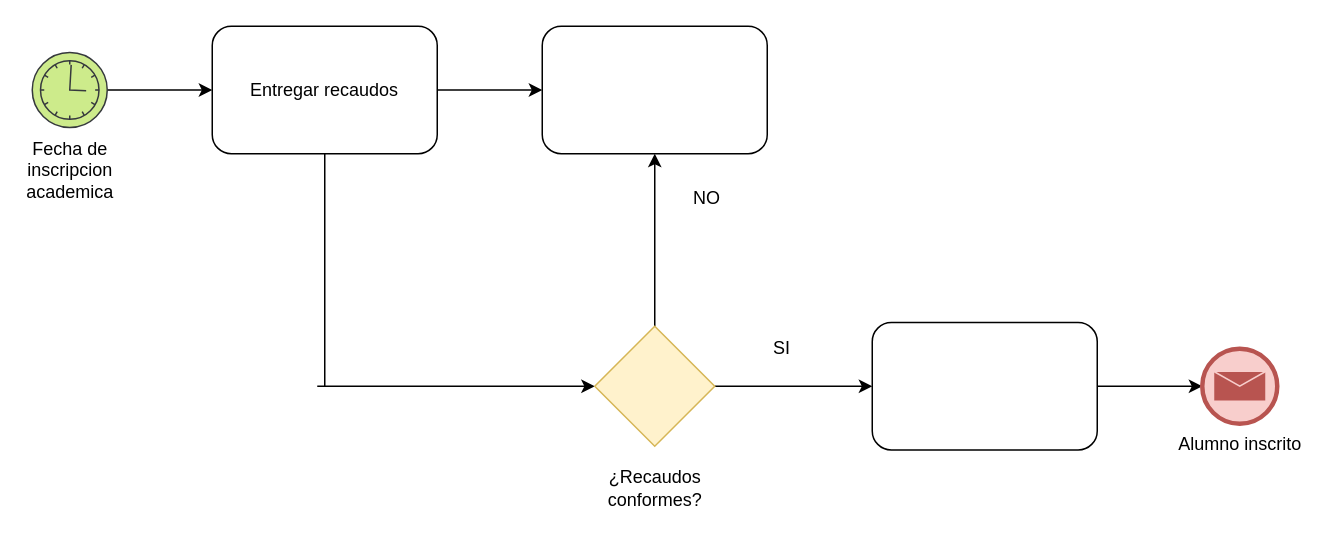
This 1326x551 diagram has some shape labels left out. Here are the shapes that lost their labels. From the top down, the box of each, then its label:
(541, 25, 767, 154): Conseguir documentos faltantes
(871, 321, 1097, 450): Inscribir al alumno en sistema
